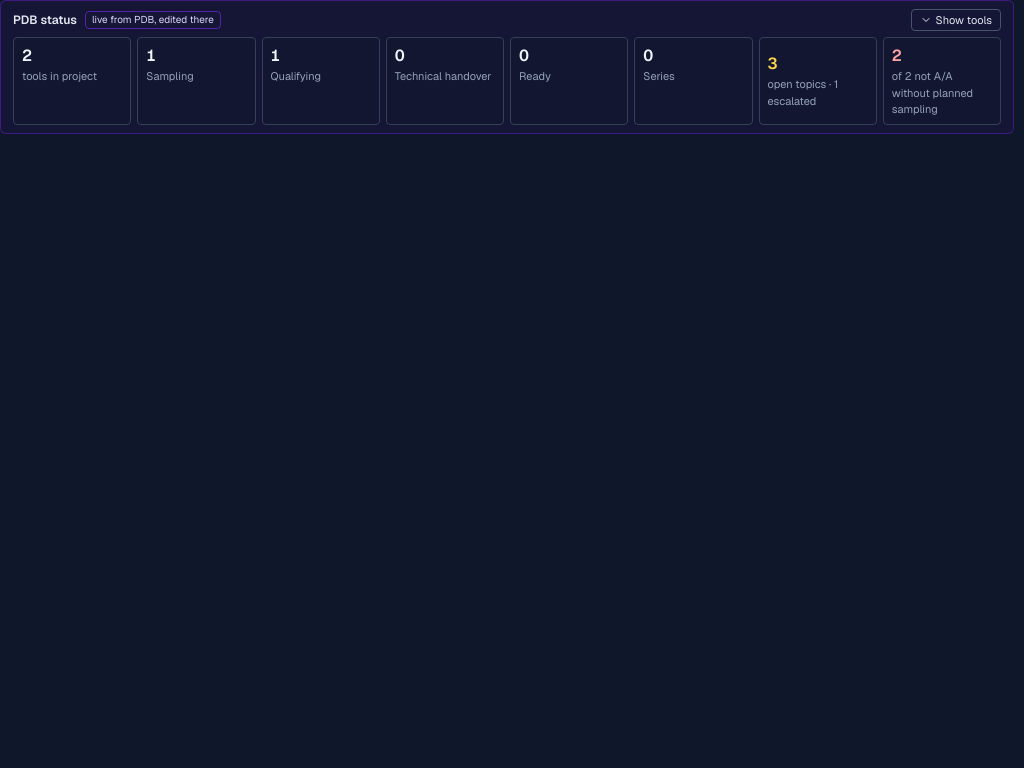
Scenario: PdbStatusBox › the topics list filters by department, sorts, and jumps into PDB
Click the button with test id "pdb-step-topics" at [818, 81], box [758,37,877,124]
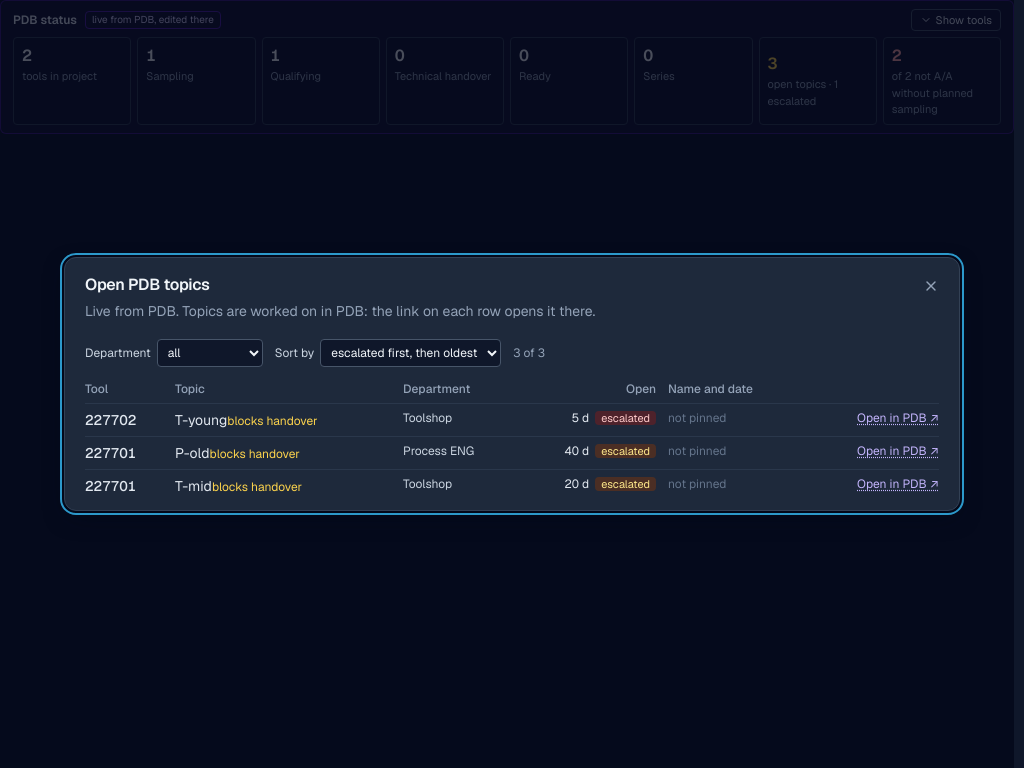
Select "oldest first" in the dropdown with test id "pdb-topics-sort" at [411, 353], box [320,339,501,367]
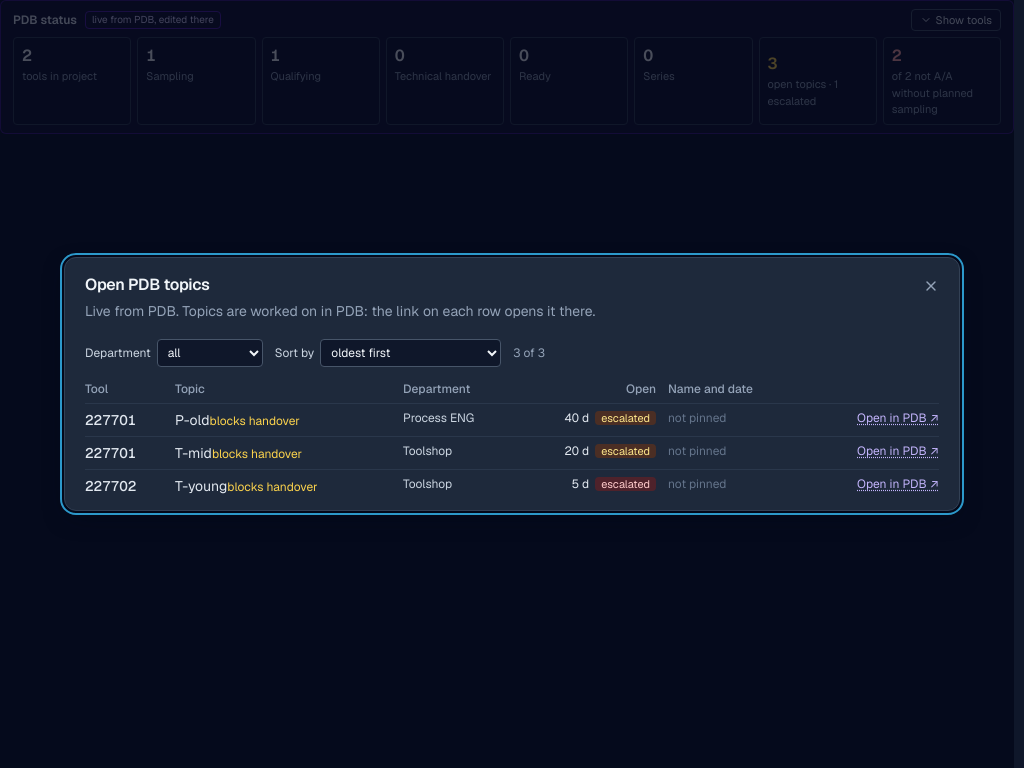
Select "department" in the dropdown with test id "pdb-topics-sort" at [411, 353], box [320,339,501,367]
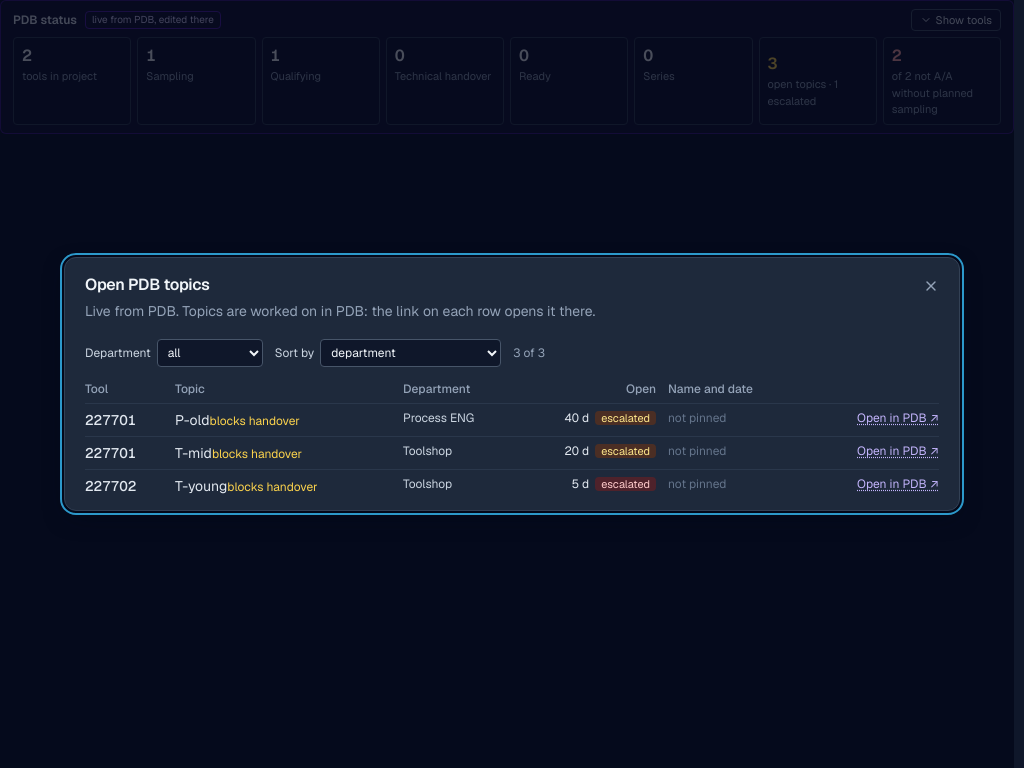
Select "Toolshop" in the dropdown with test id "pdb-topics-dept" at [210, 353], box [157,339,263,367]
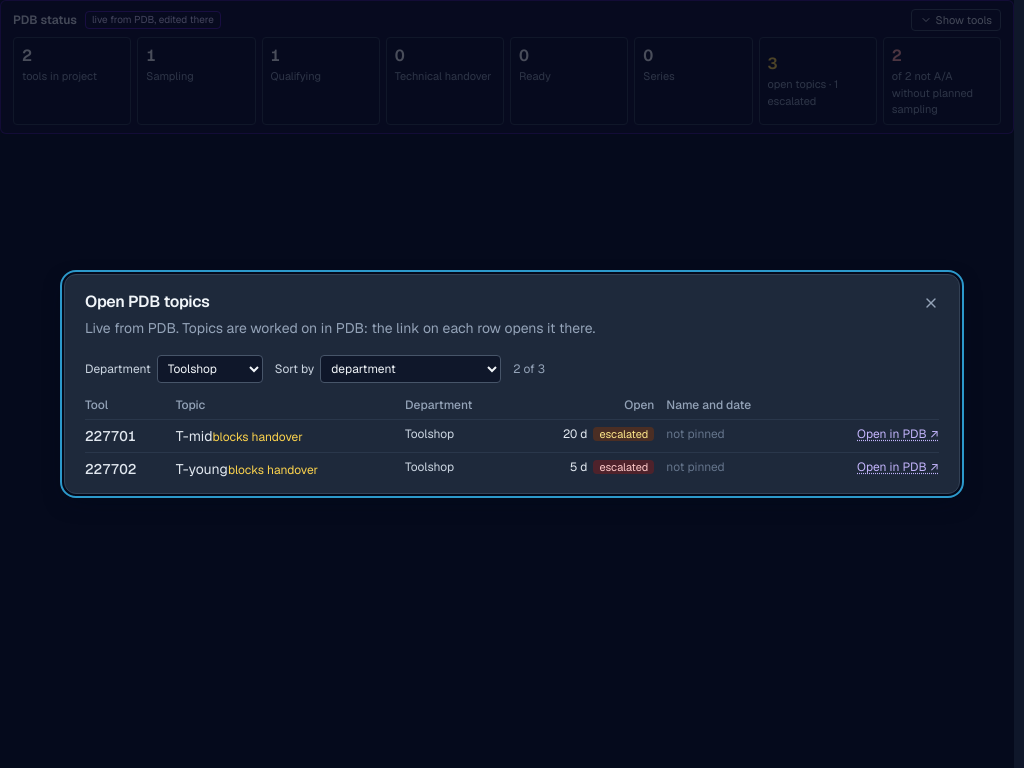
Expected: the dialog with test id "pdb-topics-dialog" shows "2 of 3", [64,274,960,494]
